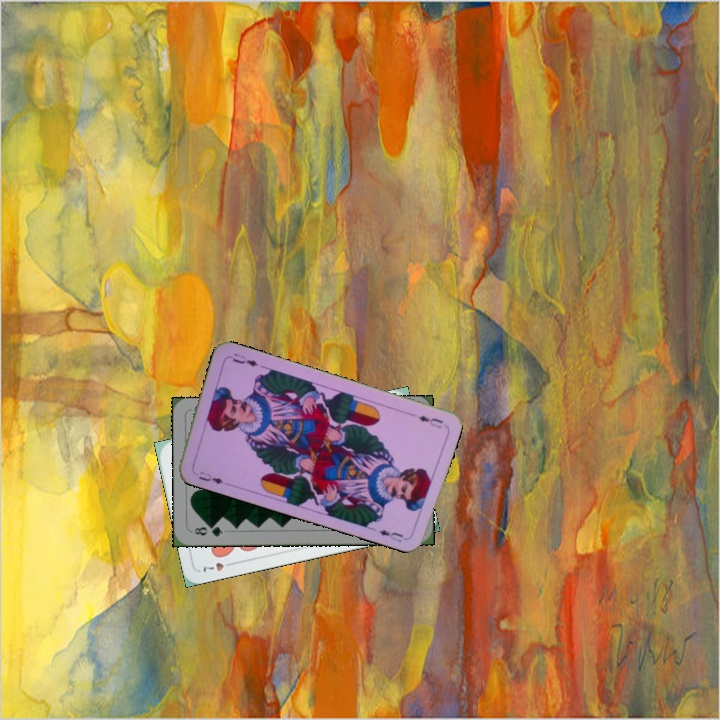EU: (406, 409, 445, 431), (190, 467, 230, 488)
G8: (190, 522, 225, 539)
H7: (199, 558, 237, 575)
